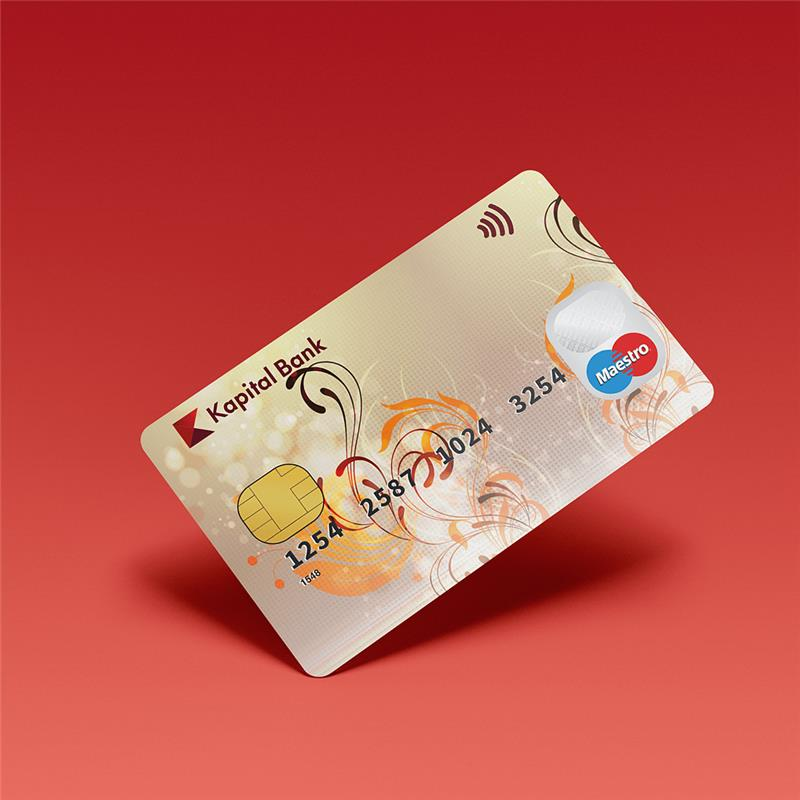Kapital Bank: (171, 405, 216, 450)
